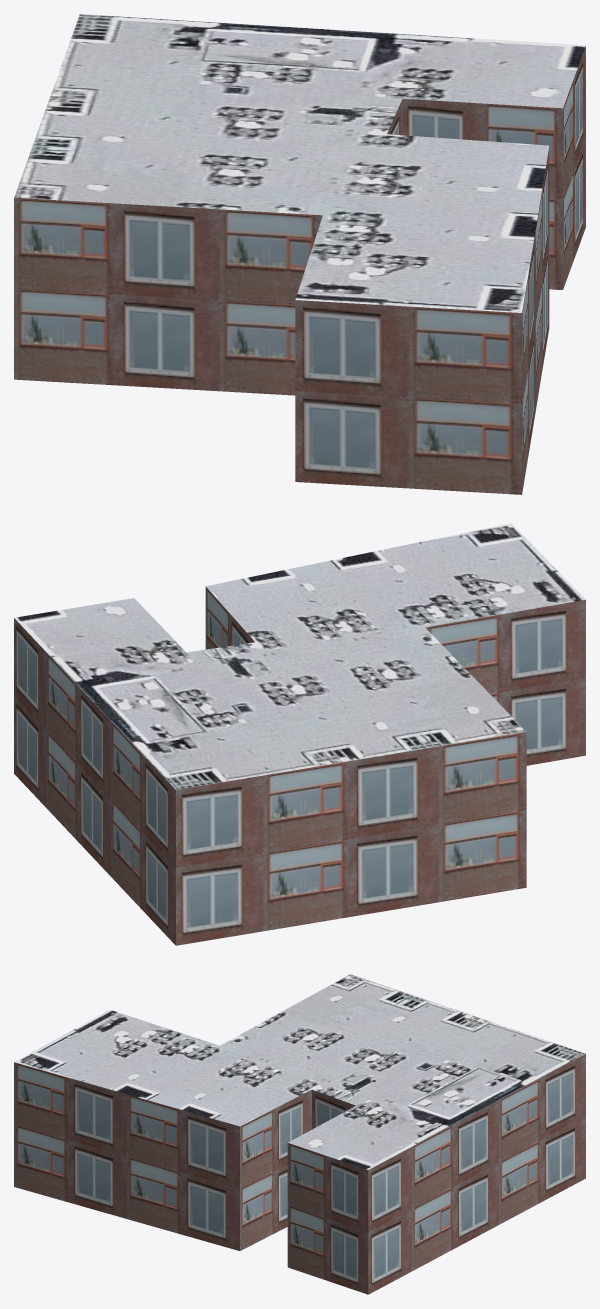
Rendered from ResTex__1331.fbx.
3 renders of one model, top to bottom at view 1: azimuth 30°, elevation 25°; view 2: azimuth 150°, elevation 25°; view 3: azimuth 270°, elevation 25°, orthographic. The views are drawn at different scales.
Parts seen in each view (by area): view 1: CityEngineMaterial_19_m, CityEngineMaterial_15_m; view 2: CityEngineMaterial_19_m, CityEngineMaterial_15_m; view 3: CityEngineMaterial_19_m, CityEngineMaterial_15_m.
Boxes of the visible parts, x1,y1,x2,y2 form: CityEngineMaterial_19_m: (14,46,585,494); CityEngineMaterial_15_m: (14,14,585,312); CityEngineMaterial_19_m: (14,586,585,945); CityEngineMaterial_15_m: (14,523,585,789); CityEngineMaterial_19_m: (14,1054,585,1294); CityEngineMaterial_15_m: (14,974,585,1169).
Bounding box in the file's own units: 20.2 × 6 × 24.93.
Materials: 2 (2 with a texture image).
